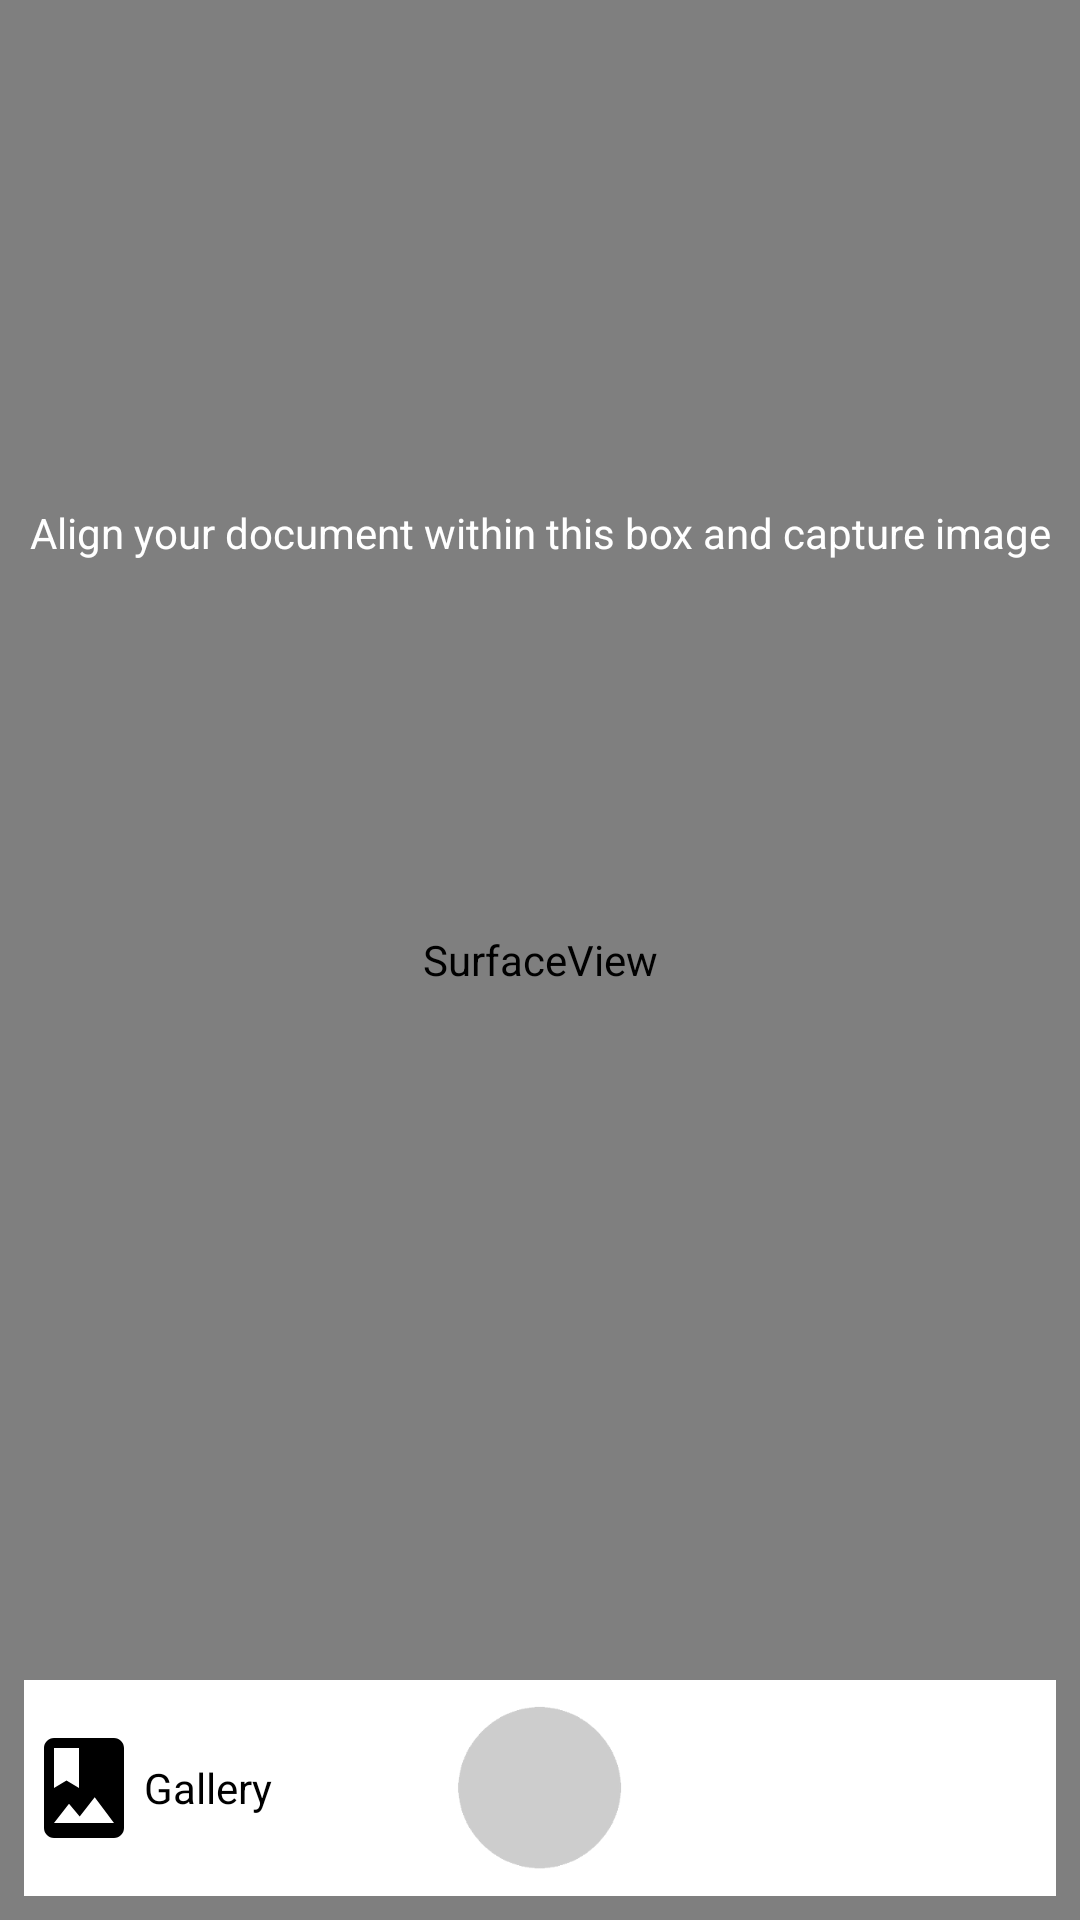

Where icons sit on this 1080 × 1920 app screen, as [x1,y1,x2,y2]:
photo album: [44,1738,124,1838]
